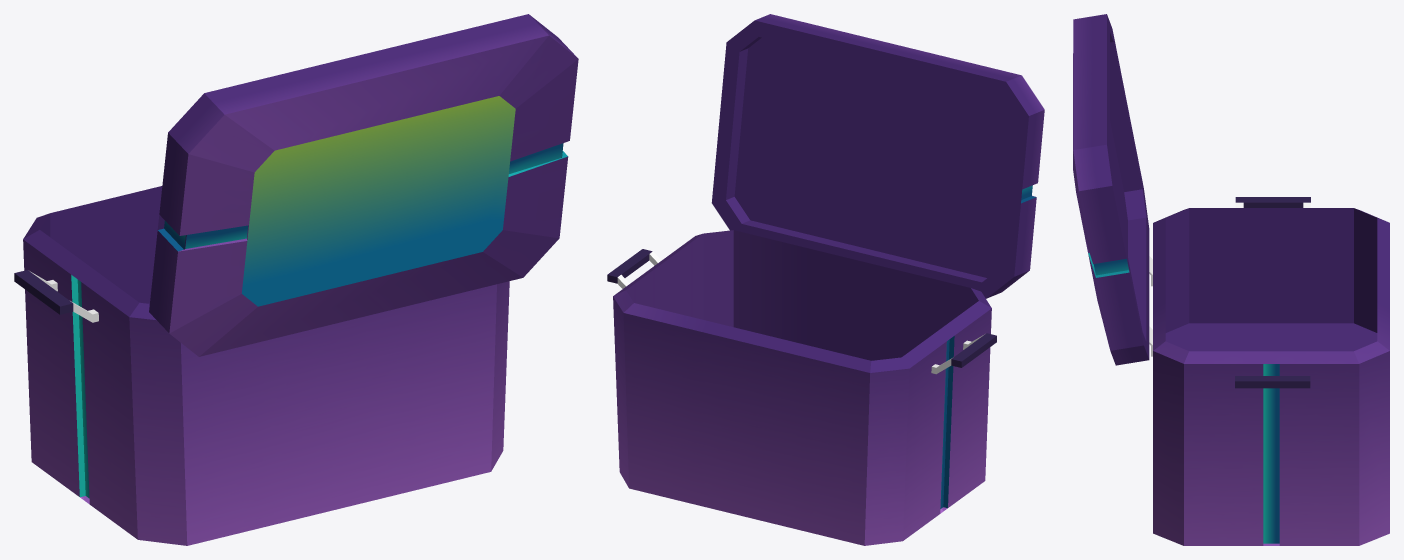
The model's file is SM_Cooler_Open.fbx.
The picture shows the model from 3 angles, left to right: view 1: azimuth 30°, elevation 25°; view 2: azimuth 150°, elevation 25°; view 3: azimuth 270°, elevation 25°; orthographic projection. The views are drawn at different scales.
Visible parts, largest first — view 1: CoolerLid.001, CoolerBox.001, Handle.004; view 2: CoolerBox.001, CoolerLid.001, Handle.004, Handle.005; view 3: CoolerBox.001, CoolerLid.001, Handle.005, Handle.004.
Boxes of the visible parts, x1,y1,x2,y2 form: CoolerLid.001: (149, 14, 578, 356); CoolerBox.001: (23, 186, 509, 545); Handle.004: (14, 270, 98, 322); CoolerBox.001: (613, 230, 991, 545); CoolerLid.001: (711, 14, 1044, 298); Handle.004: (931, 333, 996, 374); Handle.005: (607, 249, 661, 288); CoolerBox.001: (1153, 208, 1389, 545); CoolerLid.001: (1073, 14, 1149, 365); Handle.005: (1235, 376, 1310, 388); Handle.004: (1235, 197, 1310, 207).
Size of the model in its own units: 74.77 by 103 by 102.
